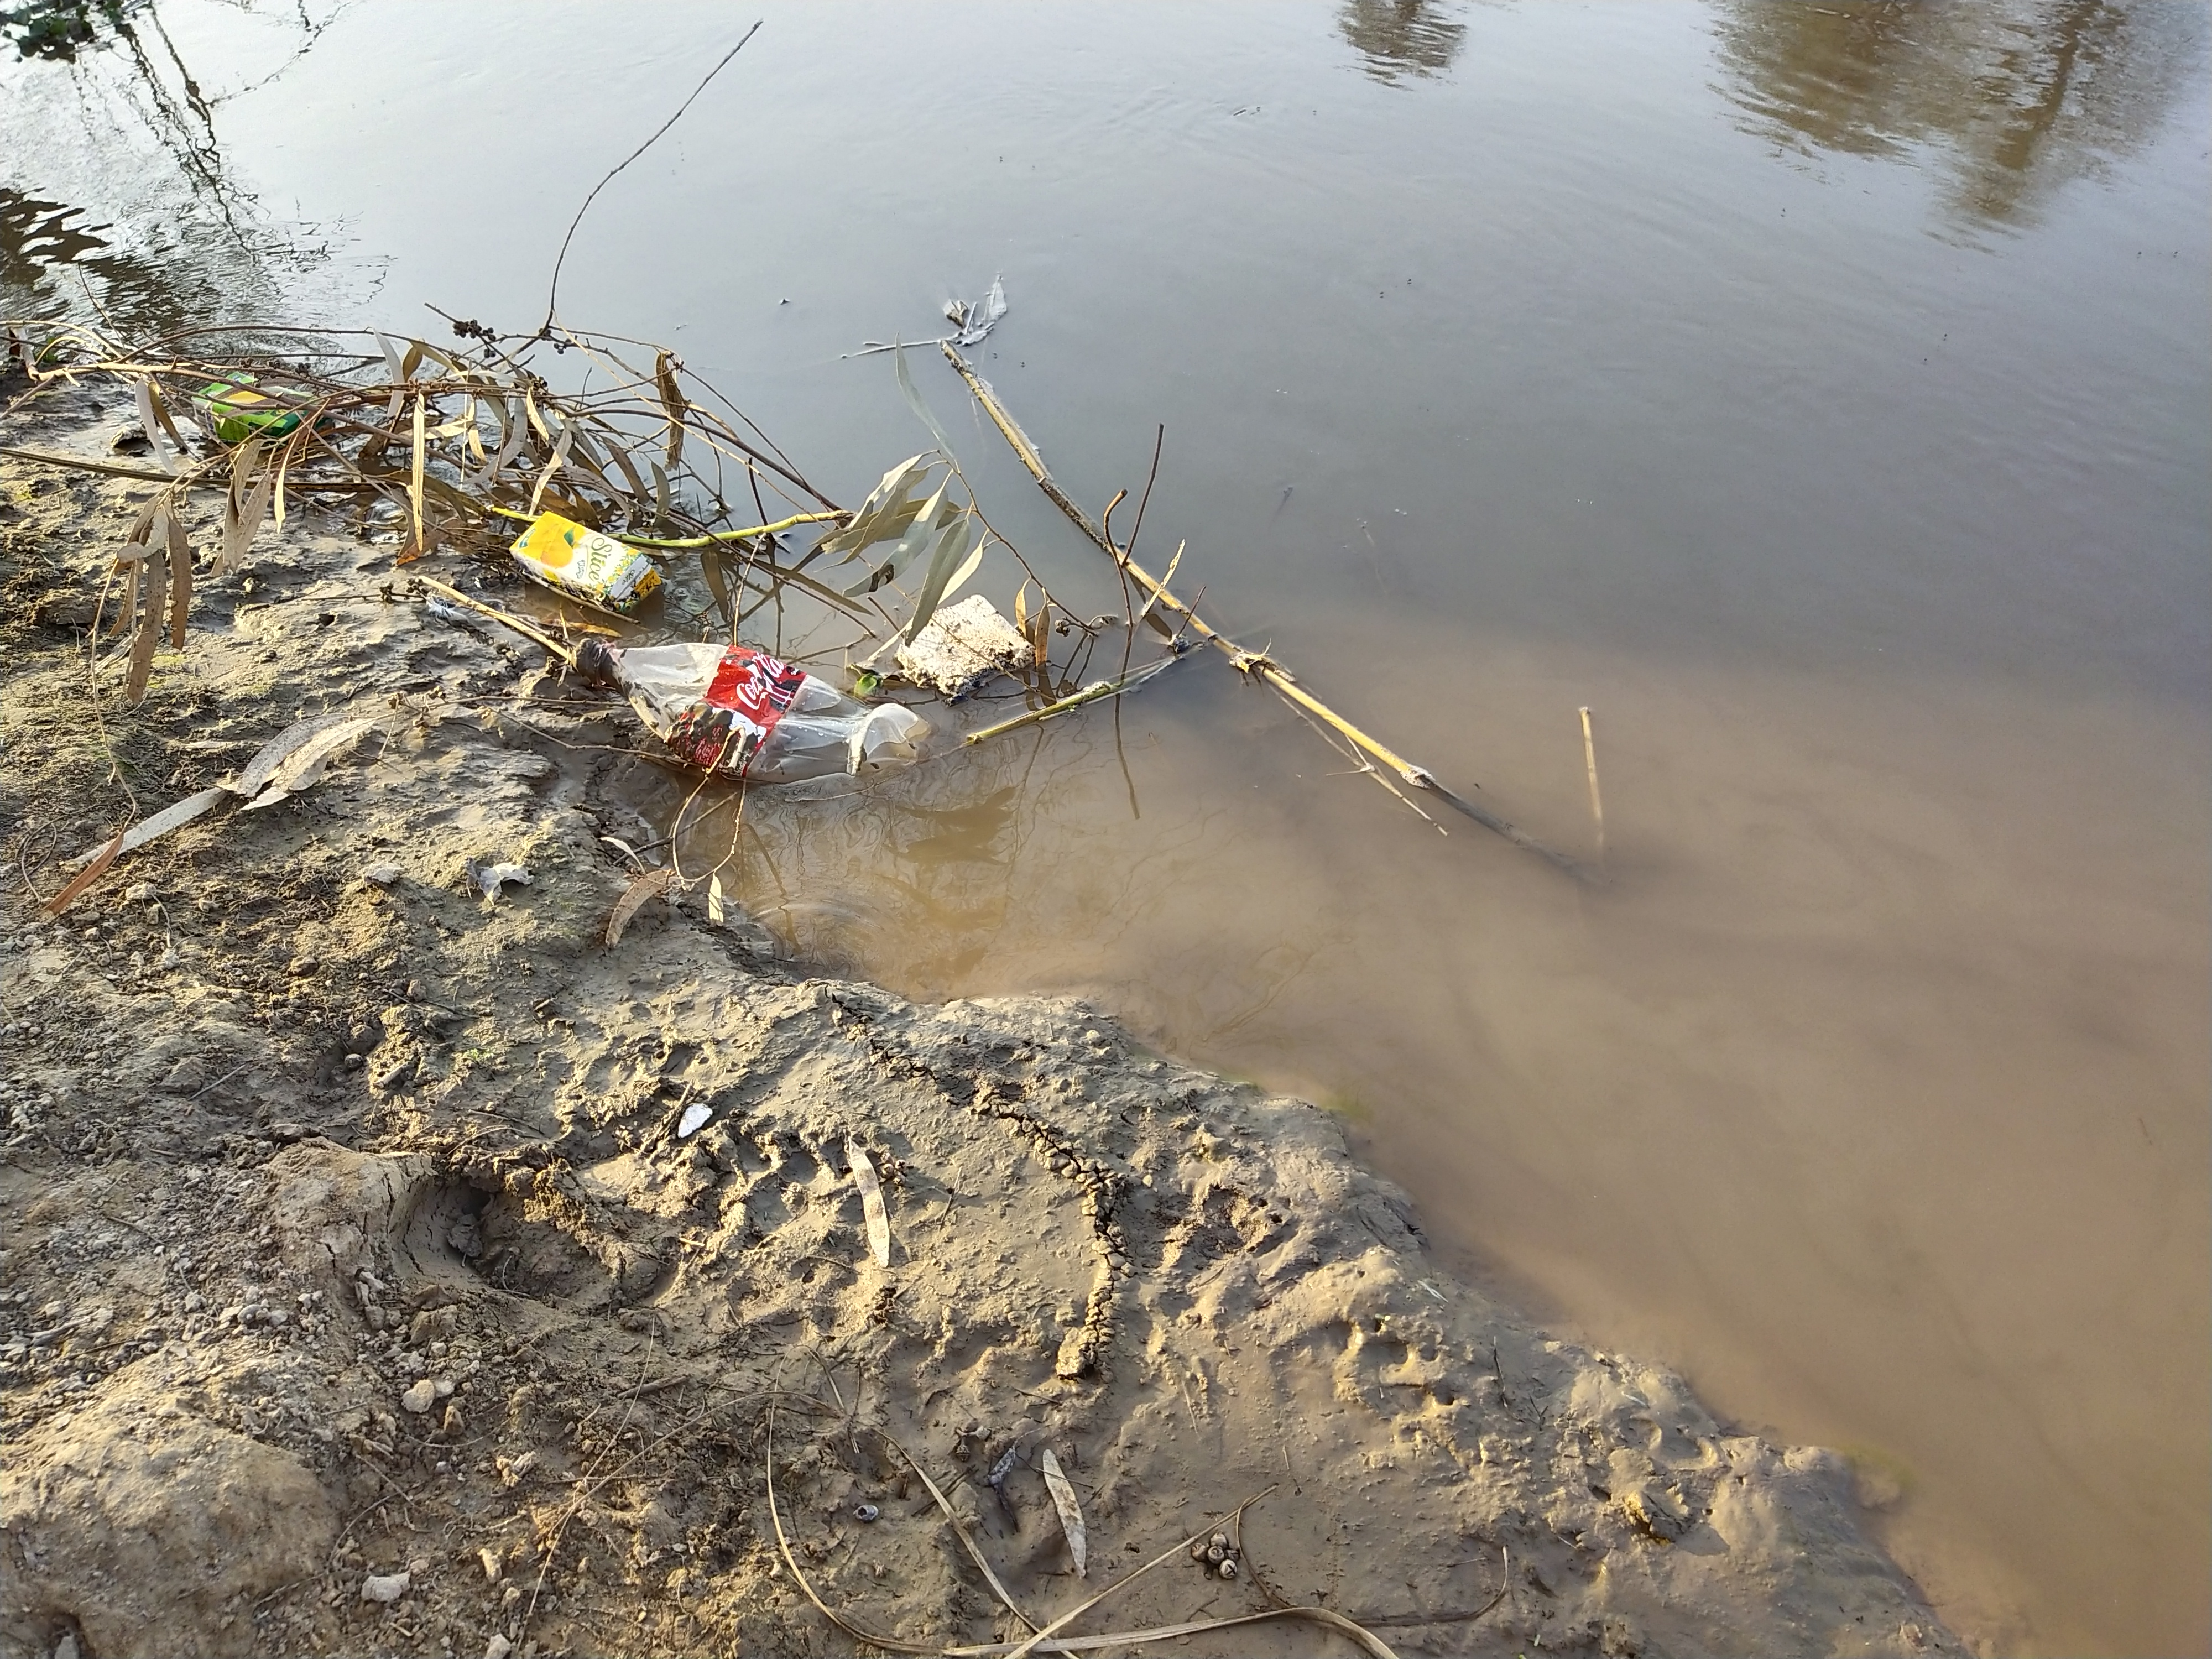Plastic Bottle: (564, 638, 925, 788)
